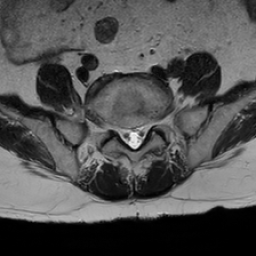CCS_normal: (129, 118, 138, 155)
LFS_normal: (147, 108, 155, 137)
LLS_normal: (139, 114, 147, 150)
RFS_normal: (110, 114, 120, 142)
RLS_normal: (120, 116, 129, 150)
